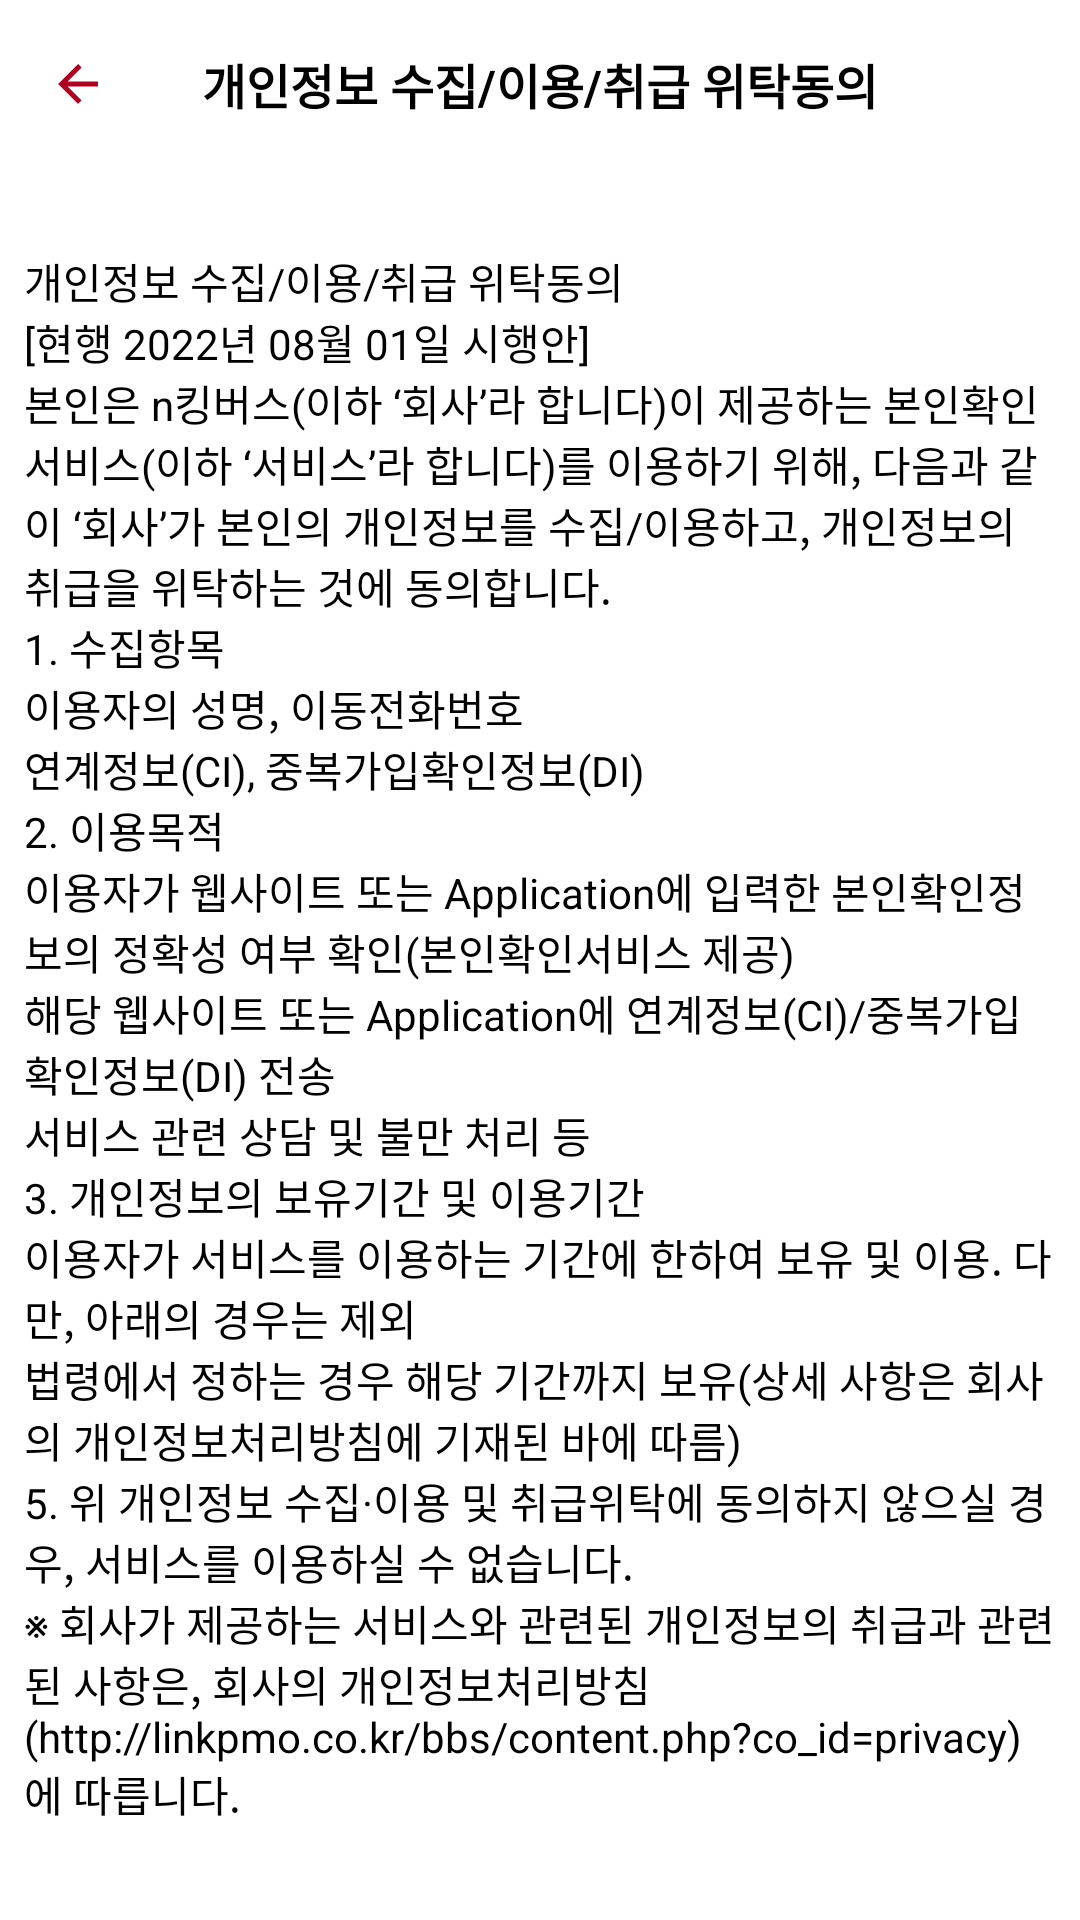

Where icons sit on this 1080×1920 app screen, as (x1, y1, x2, y2):
back: (58, 64, 98, 104)
